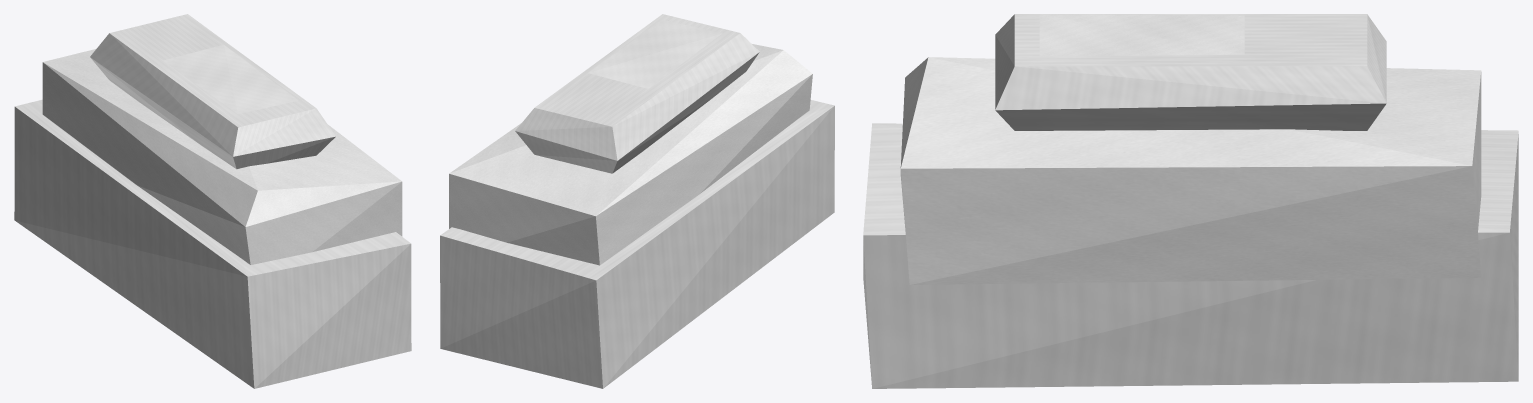
The model's file is Field_Medic_Forearm_Guard_L_Scanner_ShadowProxy.glb.
3 renders of one model, left to right at view 1: azimuth 30°, elevation 25°; view 2: azimuth 150°, elevation 25°; view 3: azimuth 270°, elevation 25°, orthographic. The views are drawn at different scales.
Visible parts, largest first — view 1: Field_Medic_Forearm_Guard_L_Scanner_ShadowProxy; view 2: Field_Medic_Forearm_Guard_L_Scanner_ShadowProxy; view 3: Field_Medic_Forearm_Guard_L_Scanner_ShadowProxy.
Boxes of the visible parts, x1,y1,x2,y2 form: Field_Medic_Forearm_Guard_L_Scanner_ShadowProxy: [14, 14, 411, 388]; Field_Medic_Forearm_Guard_L_Scanner_ShadowProxy: [440, 14, 834, 388]; Field_Medic_Forearm_Guard_L_Scanner_ShadowProxy: [863, 14, 1518, 388].
Size of the model in its own units: 0.071 by 0.0882 by 0.1748.
3 materials, 3 textured.
